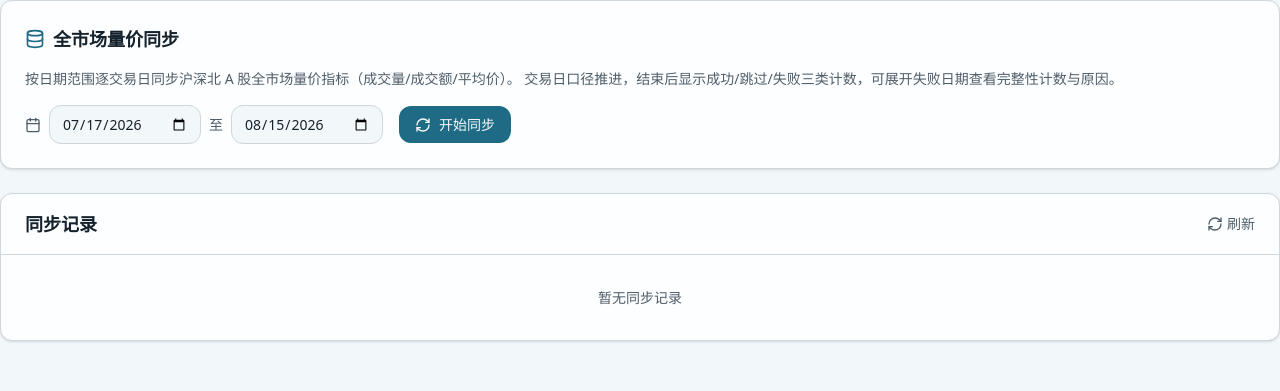
MarketMetricsSyncPanel › 创建调用与互斥（AC-11） › 后端互斥拒绝（success=false 抛错）：展示返回 message
Type "2026-07-15" into the date field named "开始日期" at (125, 124), box [49, 105, 201, 144]
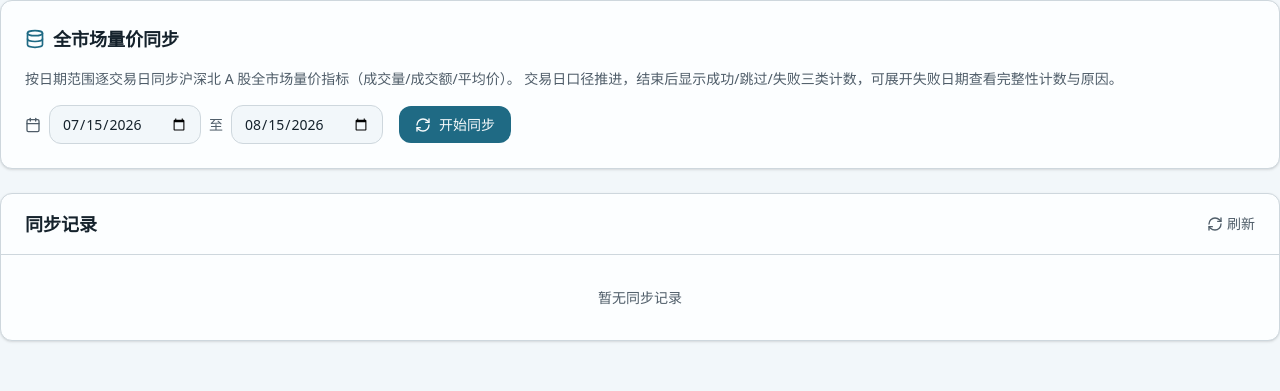
Type "2026-08-13" into the date field named "结束日期" at (307, 124), box [231, 105, 383, 144]
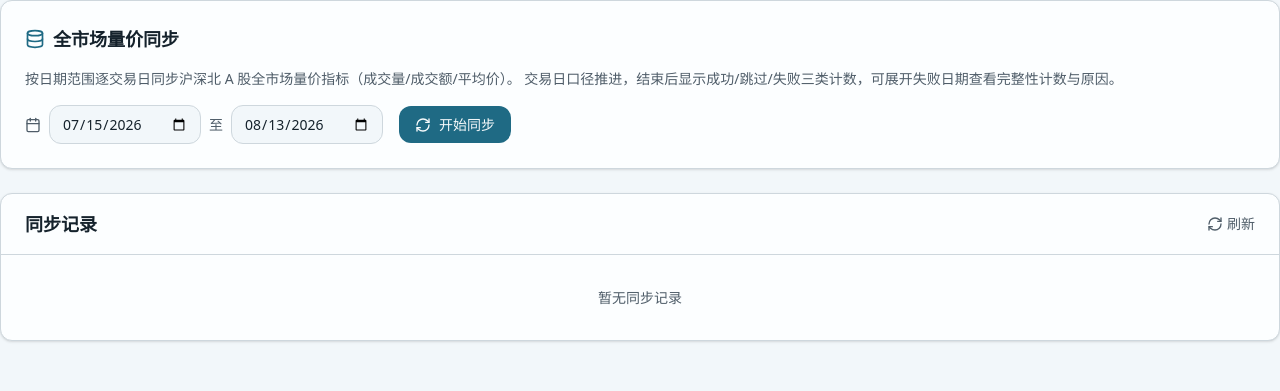
Click the button with test id "market-metrics-sync-start-button" at (455, 124), box [399, 106, 511, 143]
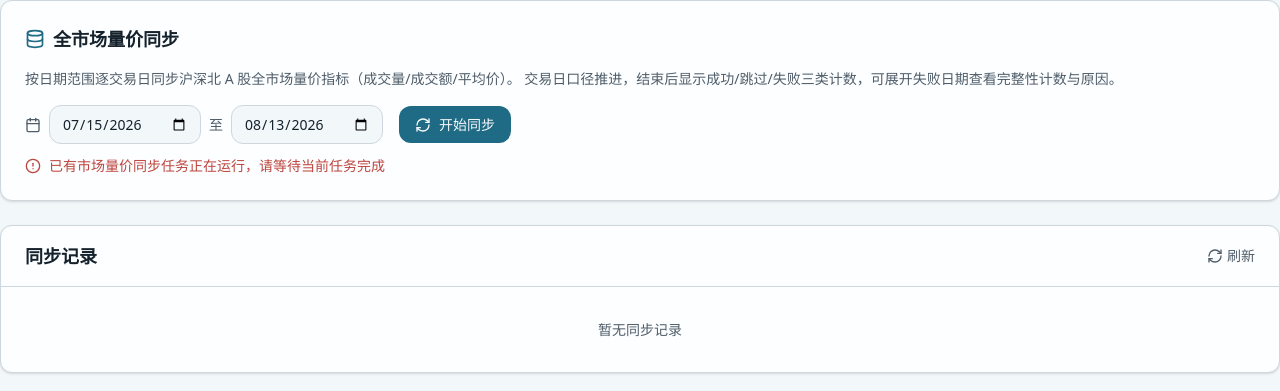
Check: the element with test id "market-metrics-sync-validation-error" reads "已有市场量价同步任务正在运行，请等待当前任务完成", box [49, 156, 385, 175]
